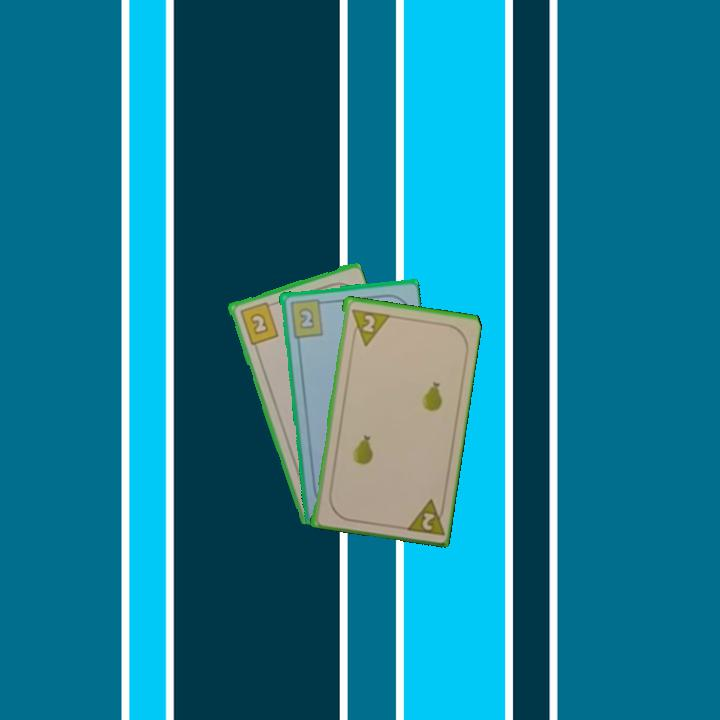2b: (236, 298, 281, 347), (286, 295, 329, 340)
2p: (400, 494, 447, 538), (358, 311, 378, 335)
